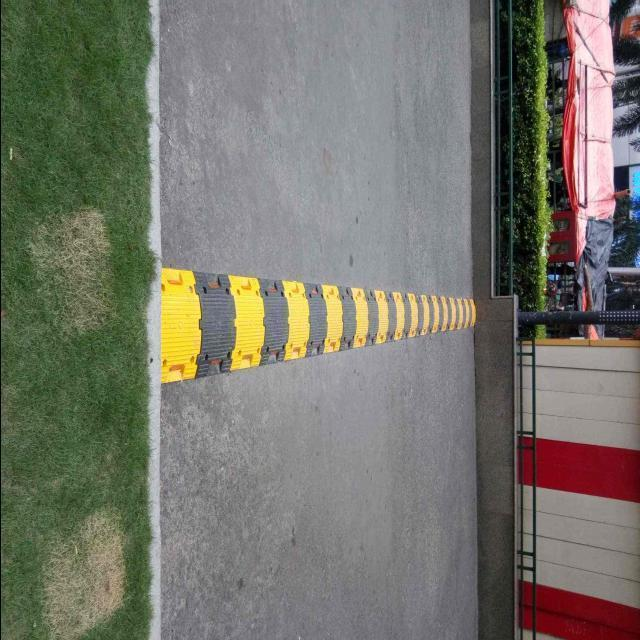speedbreaker: (156, 256, 482, 371)
